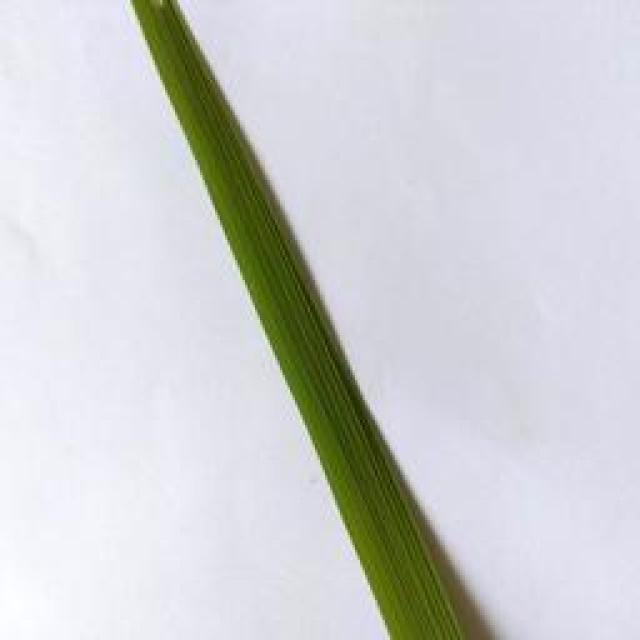Healthy-Plant: (136, 8, 457, 640)
